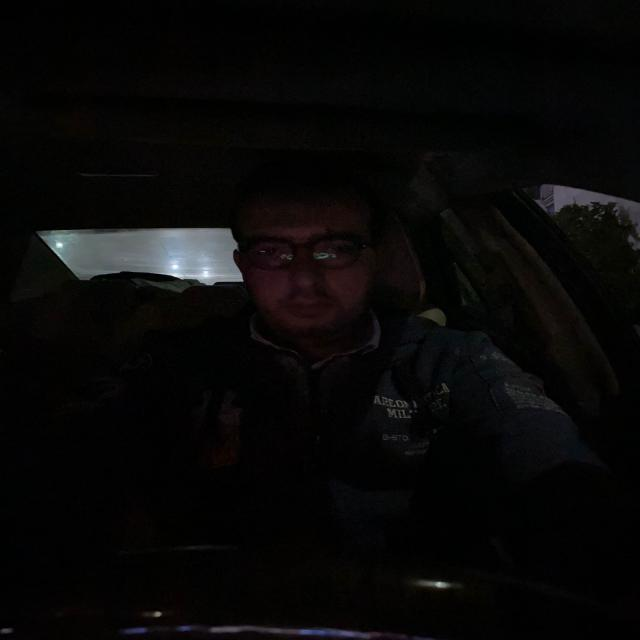person: (221, 198, 386, 344)
